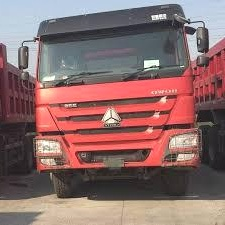truck: (18, 6, 202, 199)
